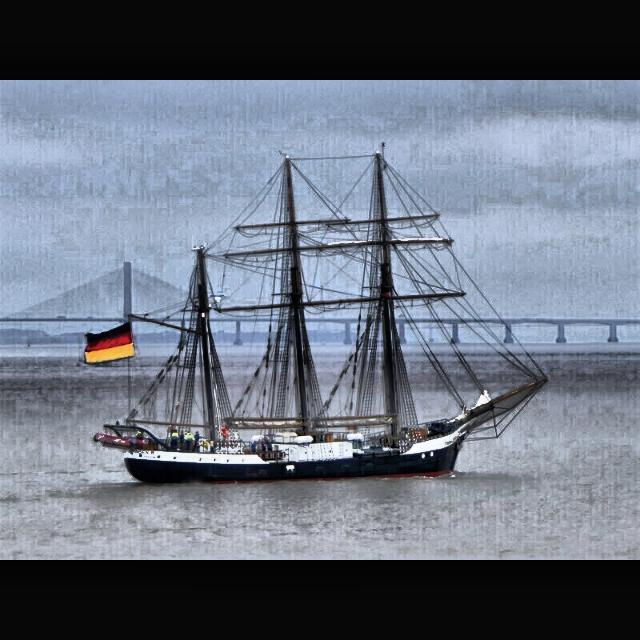sailing_vessel: (94, 141, 548, 487)
